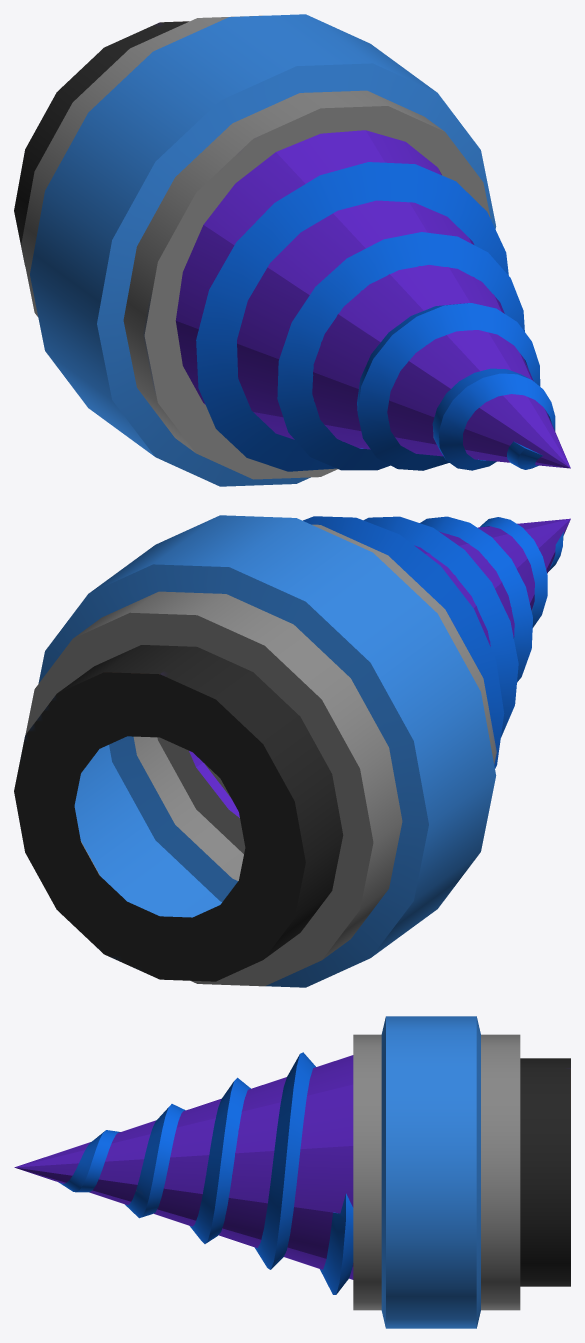
Rendered from Glove06_R.fbx.
3 renders of one model, top to bottom at view 1: azimuth 30°, elevation 25°; view 2: azimuth 150°, elevation 25°; view 3: azimuth 270°, elevation 25°, orthographic. The views are drawn at different scales.
Parts seen in each view (by area): view 1: Glove06_R; view 2: Glove06_R; view 3: Glove06_R.
Part boxes in pixels (bbox=[...]): Glove06_R: bbox=[14, 14, 570, 486]; Glove06_R: bbox=[14, 515, 570, 987]; Glove06_R: bbox=[14, 1016, 570, 1328].
Bounding box in the file's own units: 55.2 × 55.2 × 98.43.
1 material, 1 textured.
